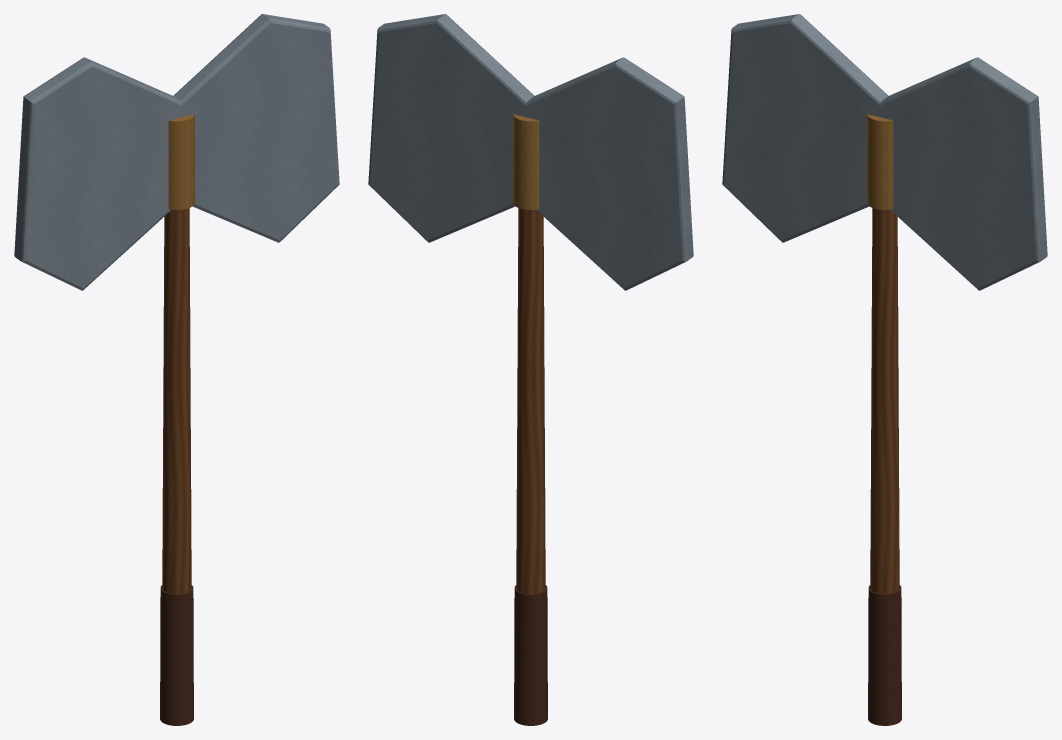
The model's file is great-axe.glb.
3 views of the same model, side by side, from view 1: azimuth 30°, elevation 25°; view 2: azimuth 150°, elevation 25°; view 3: azimuth 330°, elevation 25° (orthographic).
Parts seen in each view (by area): view 1: steel.4, steel.3, wood.0, leather.1, brass.2; view 2: steel.4, steel.3, wood.0, leather.1, brass.2; view 3: steel.3, steel.4, wood.0, leather.1, brass.2.
Part boxes in pixels (x1,y1,x2,y2): steel.4: (14, 57, 181, 290); steel.3: (173, 14, 339, 242); wood.0: (162, 208, 191, 594); leather.1: (160, 585, 193, 725); brass.2: (168, 114, 194, 209); steel.4: (526, 57, 693, 290); steel.3: (368, 14, 534, 242); wood.0: (516, 208, 545, 594); leather.1: (514, 585, 547, 725); brass.2: (513, 114, 539, 209); steel.3: (880, 57, 1047, 290); steel.4: (722, 14, 888, 242); wood.0: (870, 208, 899, 594); leather.1: (868, 585, 901, 725); brass.2: (867, 114, 893, 209).
Bounding box in the file's own units: 0.7129 × 1.46 × 0.07.
Materials: 4 (4 with a texture image).
